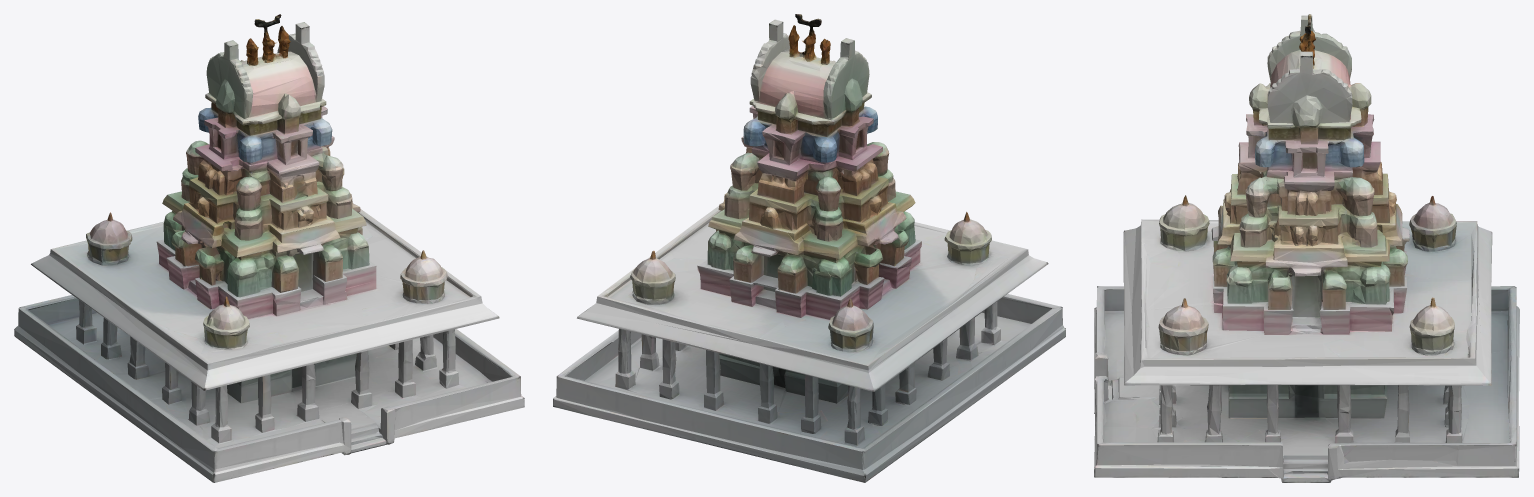
Rendered from lm_temple.glb.
3 renders of one model, left to right at view 1: azimuth 30°, elevation 25°; view 2: azimuth 150°, elevation 25°; view 3: azimuth 270°, elevation 25°, orthographic. The views are drawn at different scales.
Visible parts, largest first — view 1: geometry_0; view 2: geometry_0; view 3: geometry_0.
Boxes of the visible parts, box(x1,y1,x2,y2) form: geometry_0: box(14, 14, 524, 482); geometry_0: box(553, 14, 1065, 482); geometry_0: box(1094, 14, 1519, 482).
Bounding box in the file's own units: 0.9992 × 1.1 × 1.11.
Materials: 1 (1 with a texture image).
